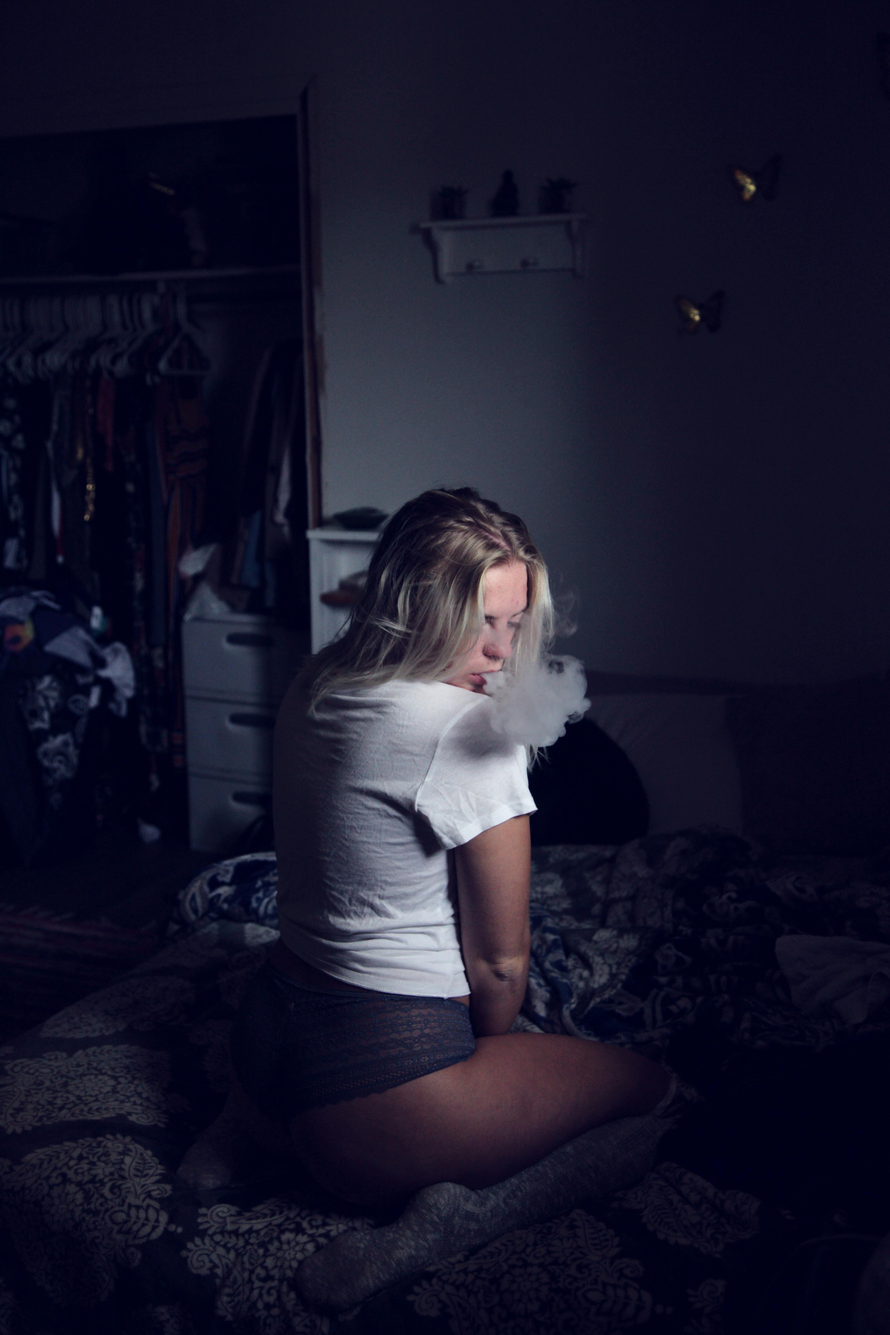smoker: (262, 381, 653, 942)
